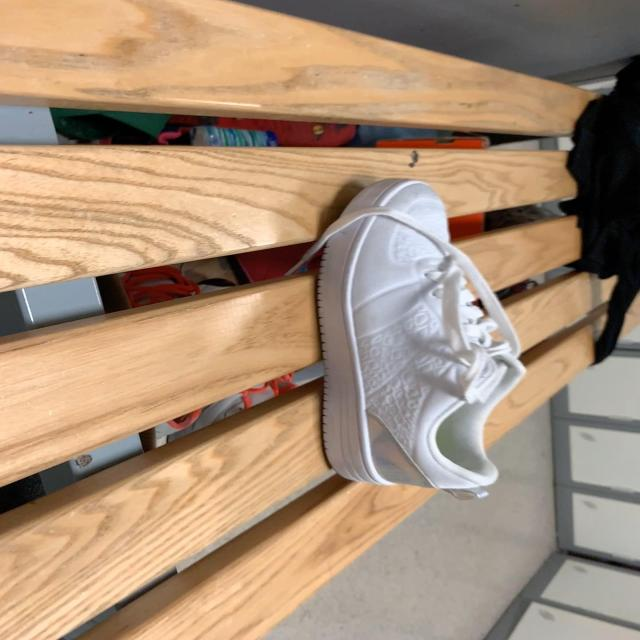shoe: (316, 185, 524, 497)
